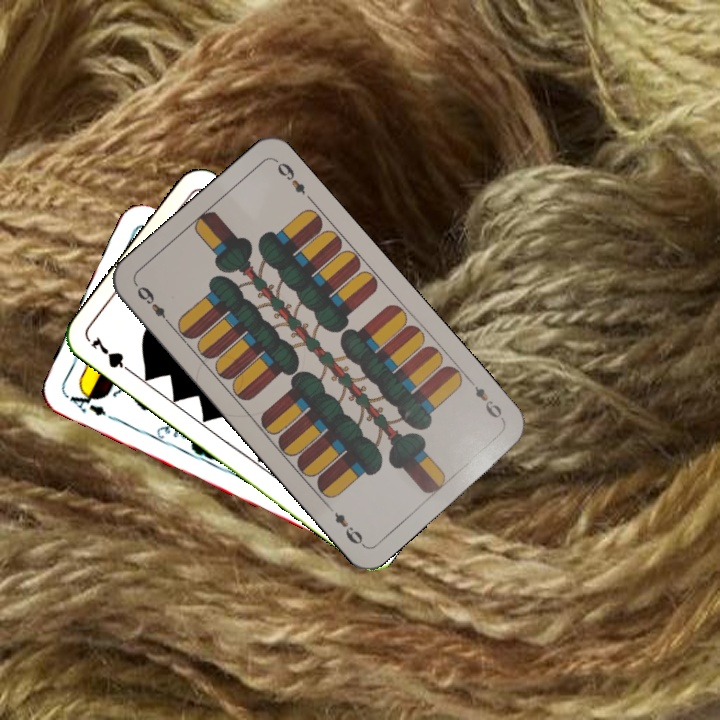E9: (464, 374, 507, 424), (133, 282, 175, 329)
EA: (63, 385, 109, 419)
G7: (87, 332, 138, 378)
